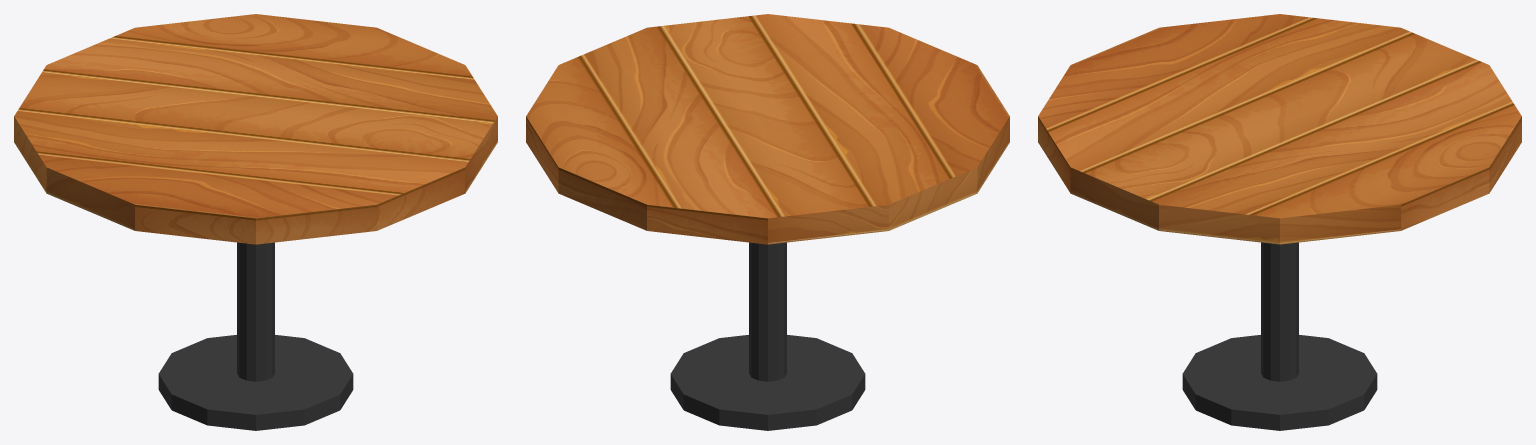
File: Table.fbx
3 renders of one model, left to right at view 1: azimuth 30°, elevation 25°; view 2: azimuth 150°, elevation 25°; view 3: azimuth 270°, elevation 25°, orthographic.
Parts seen in each view (by area): view 1: Table; view 2: Table; view 3: Table.
Boxes of the visible parts, box(x1,y1,x2,y2) form: Table: box(14, 14, 497, 430); Table: box(526, 14, 1009, 430); Table: box(1038, 14, 1521, 430).
Size of the model in its own units: 73.57 by 45.92 by 73.57.
